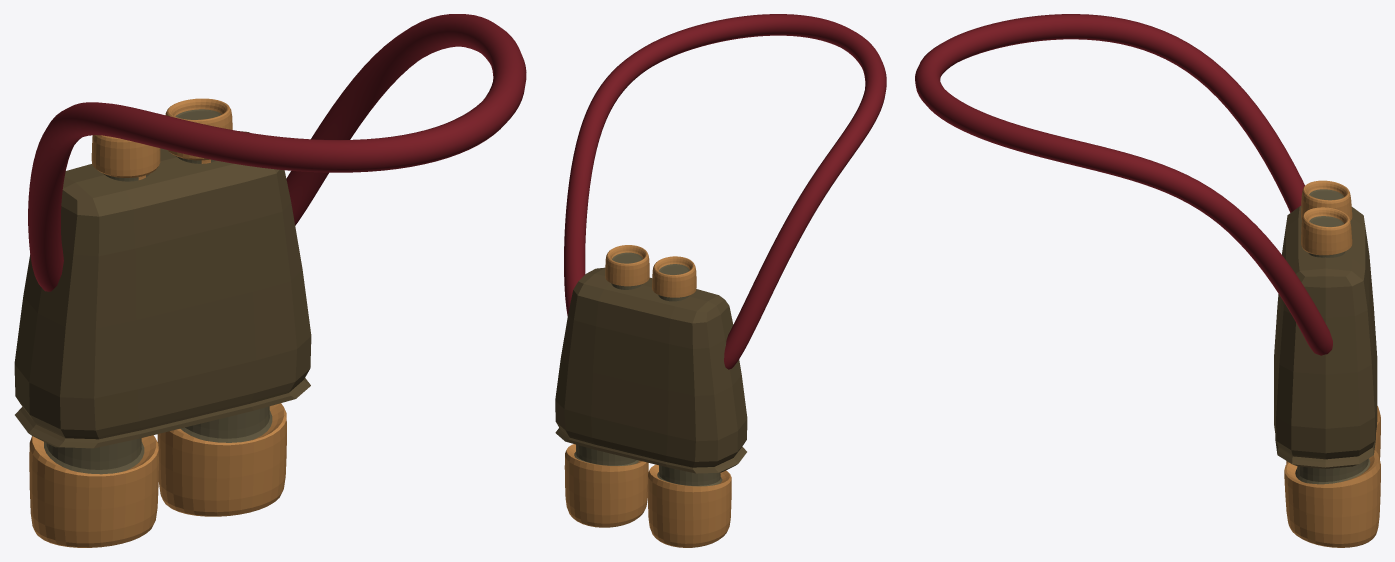
Rendered from kronos-durbun.fbx.
3 views of the same model, side by side, from view 1: azimuth 30°, elevation 25°; view 2: azimuth 150°, elevation 25°; view 3: azimuth 270°, elevation 25° (orthographic). The views are drawn at different scales.
Parts seen in each view (by area): view 1: durbun; view 2: durbun; view 3: durbun.
Boxes of the visible parts, bbox=[...] form: durbun: bbox=[14, 14, 526, 547]; durbun: bbox=[555, 14, 886, 547]; durbun: bbox=[915, 14, 1380, 547].
Size of the model in its own units: 0.3405 by 0.4824 by 0.4624.
